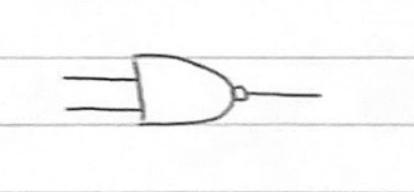NAND: (126, 47, 261, 137)
